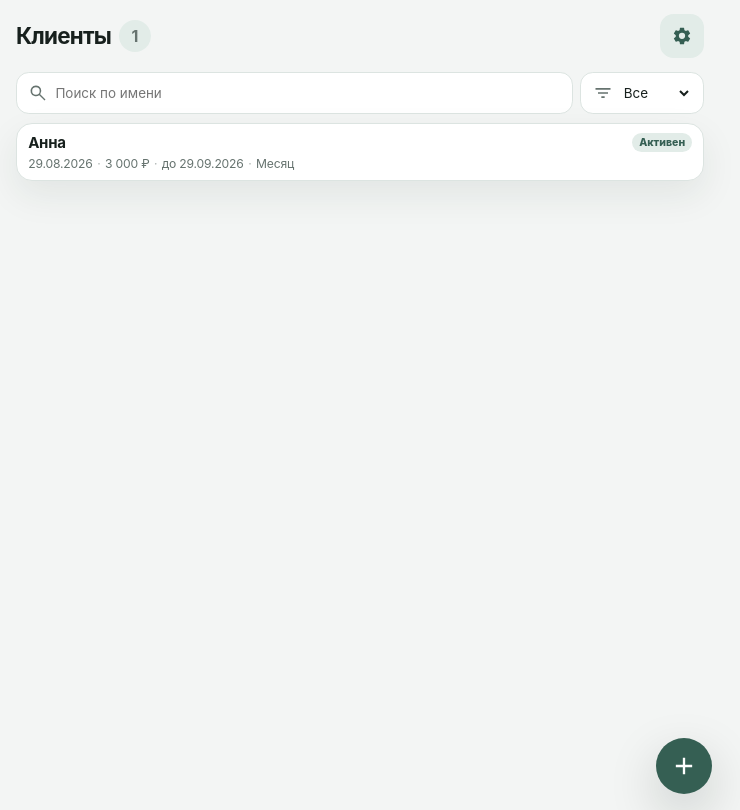
Test: App › редактирует имя и телефон без потери истории операций
Click the button "Анна Активен 29.08.2026 · 3 000 ₽ · до 29.09.2026 · Месяц". click: coordinates (47, 142)
box: [16,123,704,181]
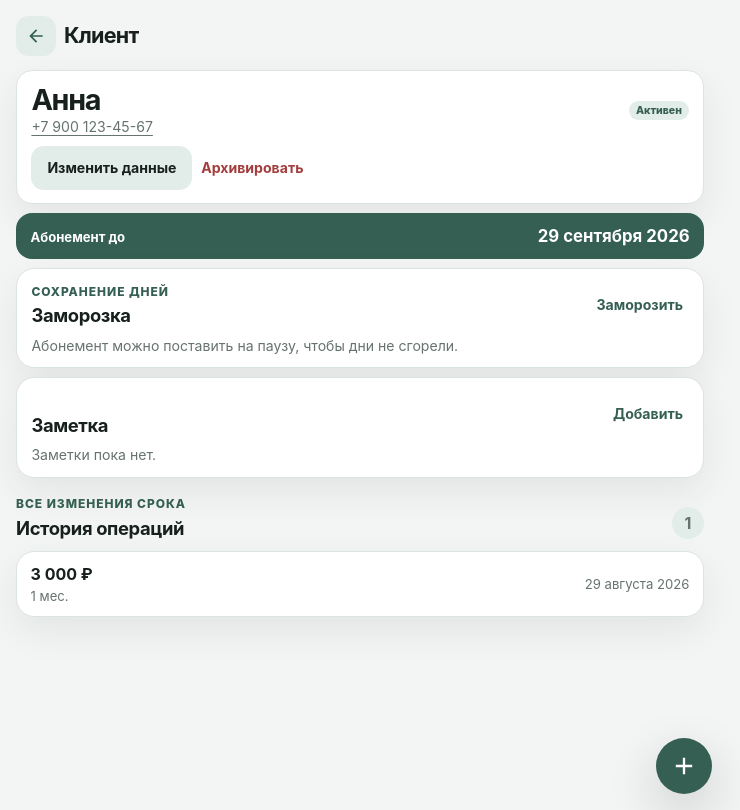
Click the button "Изменить данные". click: coordinates (112, 168)
box: [31,146,192,190]
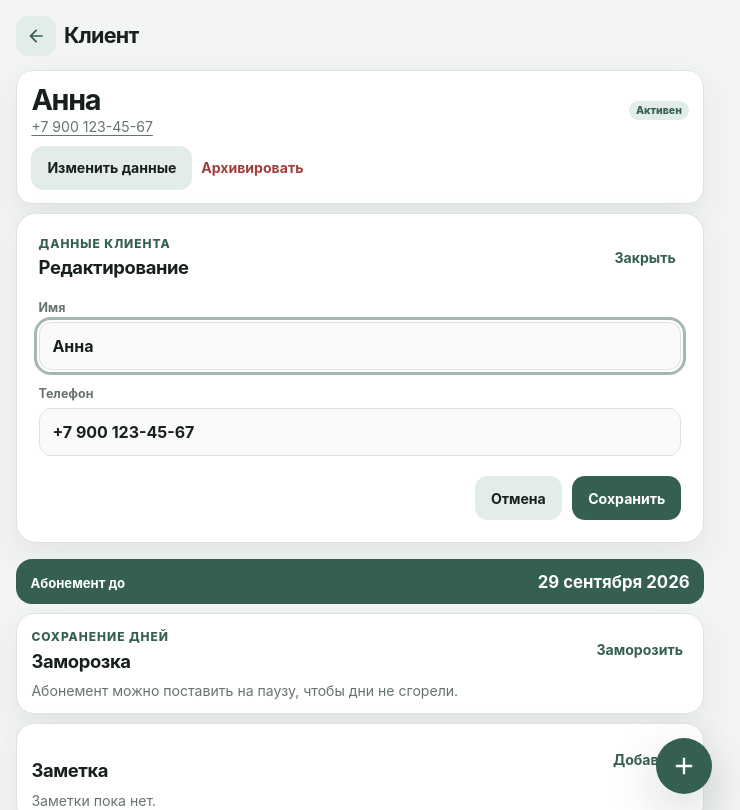
Replace the text in the field labelled "Имя" with "Анна Орлова". click: coordinates (360, 346)
box: [39,322,681,370]
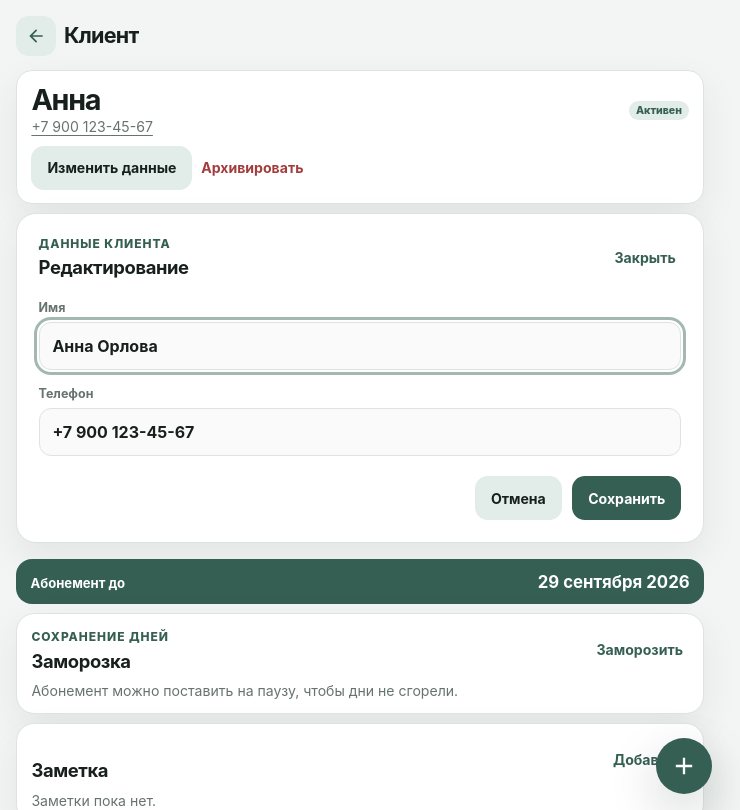
Replace the text in the field labelled "Телефон" with "89007654321". click: coordinates (360, 432)
box: [39,408,681,456]
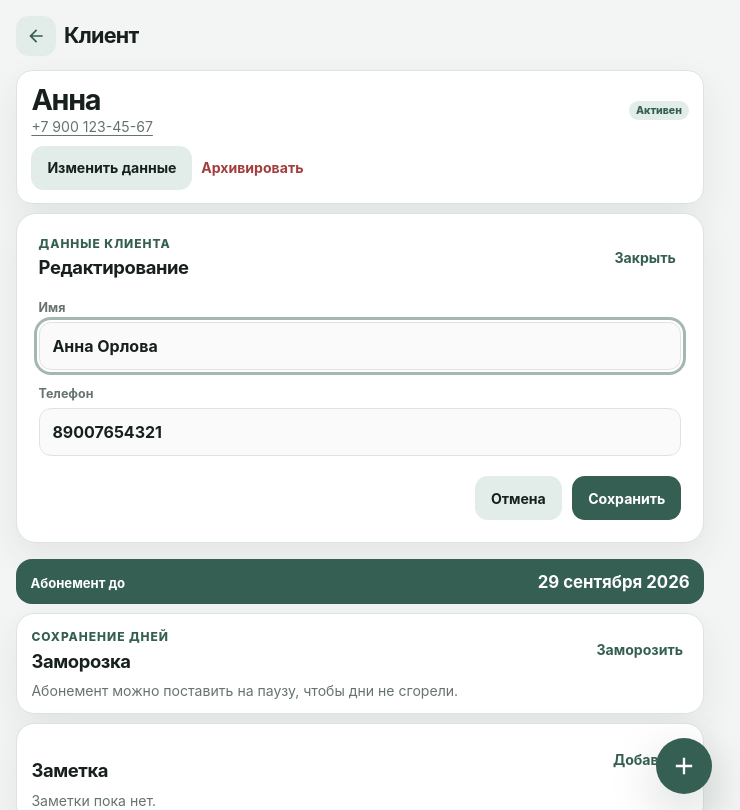
Click the button "Сохранить". click: coordinates (627, 498)
box: [572,476,681,520]
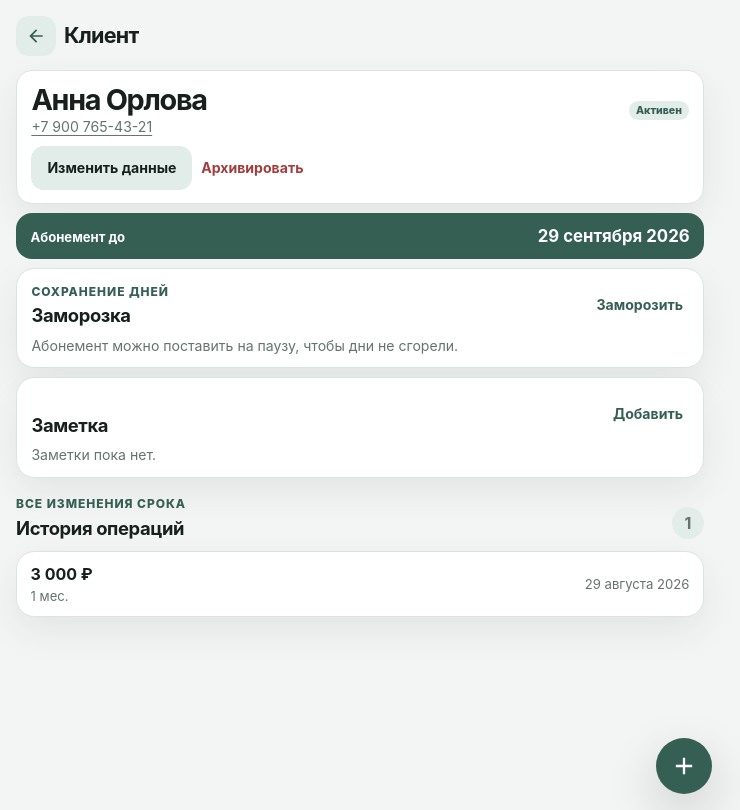
Expected: the text "3 000 ₽" is shown, [31,564,93,584]
Result: the heading "История операций" is shown at [16,516,186,538]
Result: the heading "Анна Орлова" is shown at [31,85,207,115]
